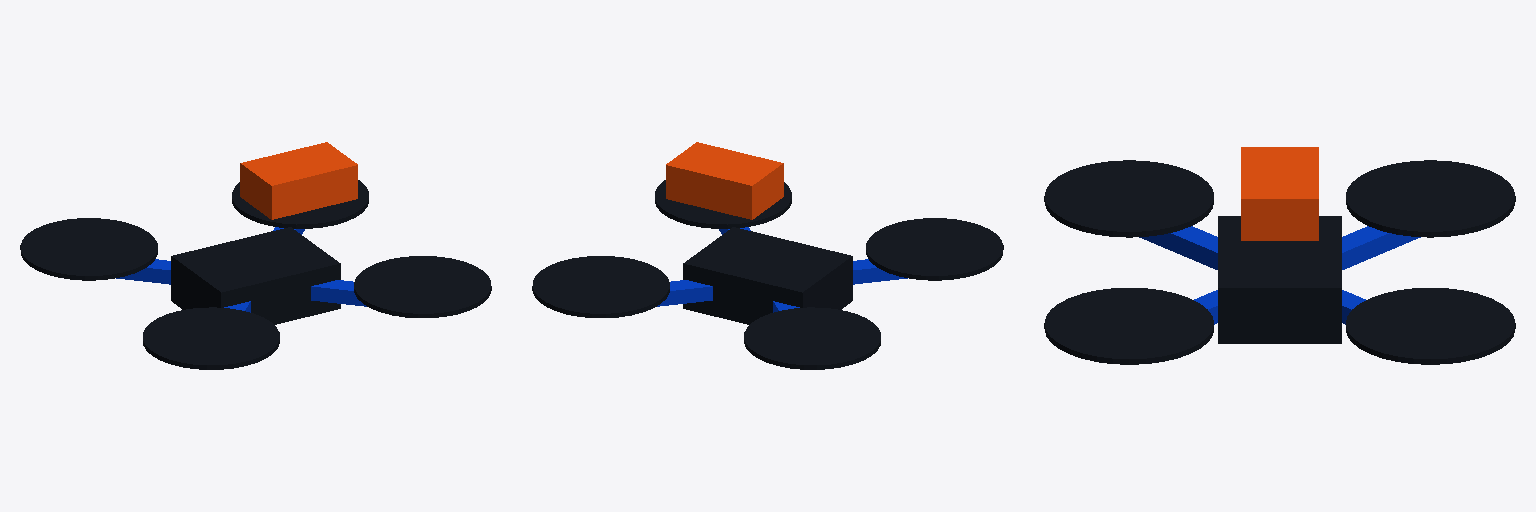
URDF robot description (iris_sensor_suite):
<?xml version="1.0"?>
<robot name="iris_sensor_suite">
  <material name="body_dark">
    <color rgba="0.10 0.12 0.15 1"/>
  </material>
  <material name="arm_blue">
    <color rgba="0.05 0.30 0.85 1"/>
  </material>
  <material name="sensor_orange">
    <color rgba="0.95 0.35 0.08 1"/>
  </material>

  <link name="base_link">
    <visual>
      <geometry>
        <box size="0.22 0.16 0.08"/>
      </geometry>
      <material name="body_dark"/>
    </visual>
  </link>

  <link name="front_arm">
    <visual>
      <origin xyz="0 0 0" rpy="0 0 0.785398"/>
      <geometry>
        <box size="0.55 0.035 0.025"/>
      </geometry>
      <material name="arm_blue"/>
    </visual>
  </link>
  <joint name="front_arm_joint" type="fixed">
    <parent link="base_link"/>
    <child link="front_arm"/>
  </joint>

  <link name="rear_arm">
    <visual>
      <origin xyz="0 0 0" rpy="0 0 -0.785398"/>
      <geometry>
        <box size="0.55 0.035 0.025"/>
      </geometry>
      <material name="arm_blue"/>
    </visual>
  </link>
  <joint name="rear_arm_joint" type="fixed">
    <parent link="base_link"/>
    <child link="rear_arm"/>
  </joint>

  <link name="rotor_0">
    <visual>
      <geometry><cylinder radius="0.11" length="0.008"/></geometry>
      <material name="body_dark"/>
    </visual>
  </link>
  <joint name="rotor_0_joint" type="fixed">
    <origin xyz="0.195 0.195 0.025"/>
    <parent link="base_link"/>
    <child link="rotor_0"/>
  </joint>

  <link name="rotor_1">
    <visual>
      <geometry><cylinder radius="0.11" length="0.008"/></geometry>
      <material name="body_dark"/>
    </visual>
  </link>
  <joint name="rotor_1_joint" type="fixed">
    <origin xyz="-0.195 0.195 0.025"/>
    <parent link="base_link"/>
    <child link="rotor_1"/>
  </joint>

  <link name="rotor_2">
    <visual>
      <geometry><cylinder radius="0.11" length="0.008"/></geometry>
      <material name="body_dark"/>
    </visual>
  </link>
  <joint name="rotor_2_joint" type="fixed">
    <origin xyz="-0.195 -0.195 0.025"/>
    <parent link="base_link"/>
    <child link="rotor_2"/>
  </joint>

  <link name="rotor_3">
    <visual>
      <geometry><cylinder radius="0.11" length="0.008"/></geometry>
      <material name="body_dark"/>
    </visual>
  </link>
  <joint name="rotor_3_joint" type="fixed">
    <origin xyz="0.195 -0.195 0.025"/>
    <parent link="base_link"/>
    <child link="rotor_3"/>
  </joint>

  <link name="sensor_suite_link">
    <visual>
      <origin xyz="0 0 0"/>
      <geometry><box size="0.16 0.10 0.06"/></geometry>
      <material name="sensor_orange"/>
    </visual>
  </link>
  <joint name="sensor_suite_joint" type="fixed">
    <origin xyz="0.08 0 0.16"/>
    <parent link="base_link"/>
    <child link="sensor_suite_link"/>
  </joint>
</robot>

--- Render facts (derived) ---
3 views of the same robot in one strip: view 1: azimuth 30°, elevation 25°; view 2: azimuth 150°, elevation 25°; view 3: azimuth 270°, elevation 25° (orthographic).
Robot: iris_sensor_suite — 8 links, 7 joints (7 fixed); root link base_link; default pose: all joints at 0.
Visible links, largest first — view 1: base_link, rotor_1, rotor_2, rotor_3, sensor_suite_link, rotor_0, rear_arm; view 2: base_link, rotor_2, rotor_1, rotor_0, sensor_suite_link, rotor_3, front_arm; view 3: base_link, rotor_1, rotor_2, rotor_0, rotor_3, sensor_suite_link, front_arm, rear_arm.
Boxes of the visible links, bbox=[...] form: base_link: bbox=[171, 227, 340, 324]; rotor_1: bbox=[20, 218, 157, 280]; rotor_2: bbox=[143, 307, 279, 369]; rotor_3: bbox=[354, 256, 491, 317]; sensor_suite_link: bbox=[240, 142, 357, 219]; rotor_0: bbox=[232, 180, 368, 228]; rear_arm: bbox=[116, 259, 366, 306]; base_link: bbox=[683, 227, 852, 324]; rotor_2: bbox=[866, 218, 1003, 280]; rotor_1: bbox=[744, 307, 880, 369]; rotor_0: bbox=[532, 256, 669, 317]; sensor_suite_link: bbox=[666, 142, 783, 219]; rotor_3: bbox=[655, 180, 791, 228]; front_arm: bbox=[657, 259, 907, 306]; base_link: bbox=[1218, 216, 1341, 343]; rotor_1: bbox=[1346, 160, 1515, 237]; rotor_2: bbox=[1044, 160, 1213, 237]; rotor_0: bbox=[1346, 288, 1515, 364]; rotor_3: bbox=[1044, 288, 1213, 364]; sensor_suite_link: bbox=[1241, 147, 1318, 240]; front_arm: bbox=[1139, 226, 1365, 324]; rear_arm: bbox=[1194, 226, 1420, 324].
Size in the robot's own frame: 0.61 by 0.61 by 0.23 metres.
Geometry: primitives only (box / cylinder / sphere), no mesh files.
